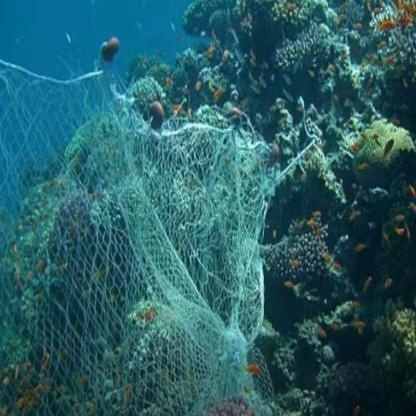net: (19, 102, 265, 416)
